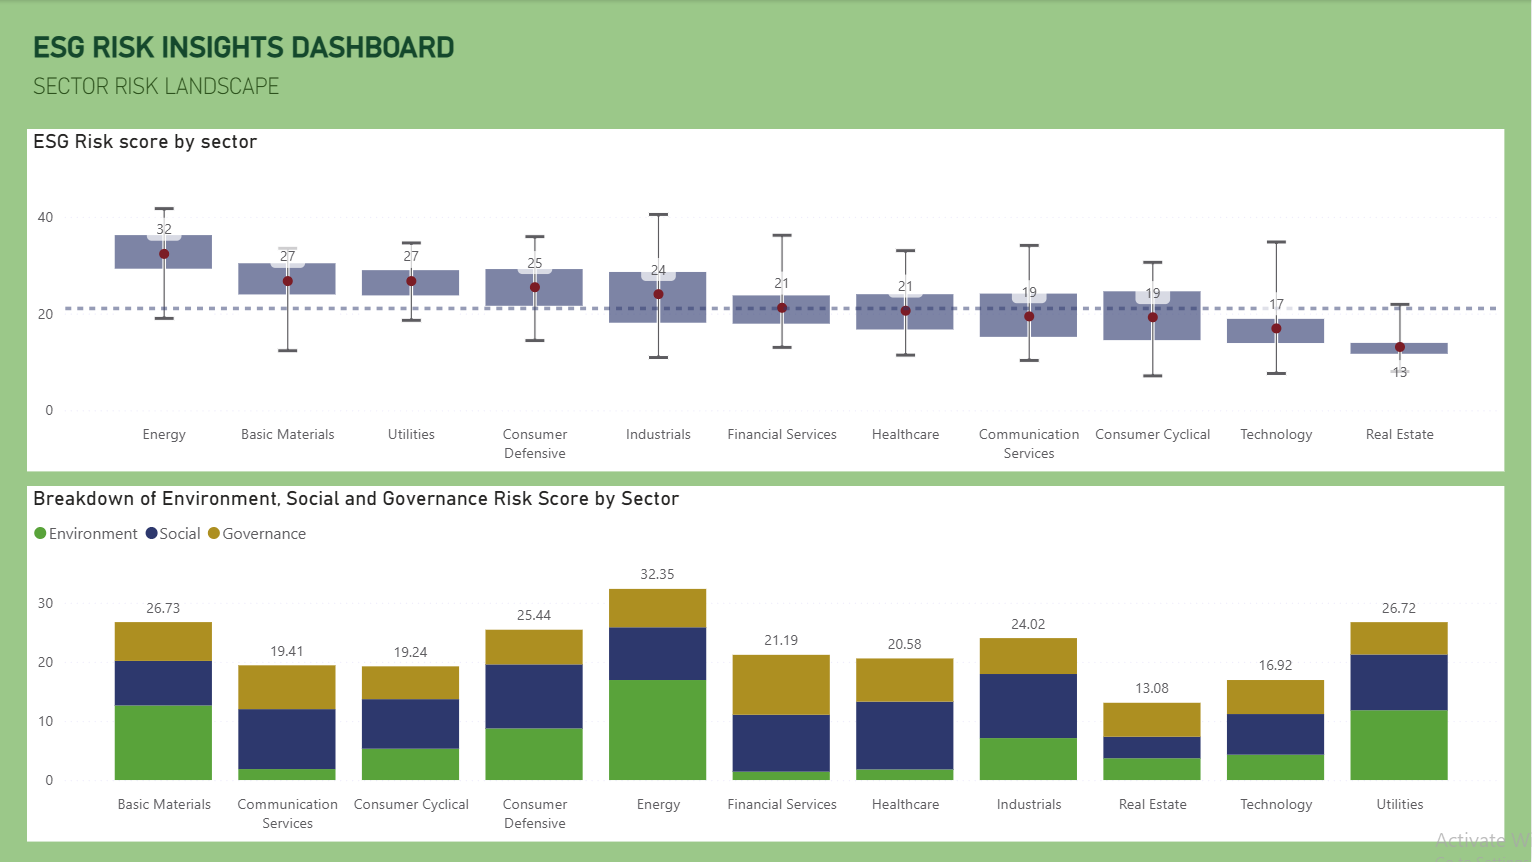

What the dashboard file says about the page in this screenshot:
{"tool":"powerbi","page":{"name":"Sector Risk Landscape","canvas":[1280,720],"ordinal":2},"visuals":[{"type":"lineStackedColumnComboChart","title":"ESG Risk score by sector","fields":{"Category":["SP 500 ESG Risk Ratings.Sector"],"Y2":["Avg(SP 500 ESG Risk Ratings.Total ESG Risk score)2"],"Y":["SP 500 ESG Risk Ratings.Q1 ESG","SP 500 ESG Risk Ratings.IQR ESG"]},"box":[23.3,108,1234.4,285.9],"z":0},{"type":"columnChart","title":"Breakdown of Environment, Social and Governance Risk Score by Sector","fields":{"Y":["Avg(SP 500 ESG Risk Ratings.Environment Risk Score)","Avg(SP 500 ESG Risk Ratings.Social Risk Score)","Avg(SP 500 ESG Risk Ratings.Governance Risk Score)"],"Category":["SP 500 ESG Risk Ratings.Sector"]},"box":[23.3,406.1,1234.4,296.9],"z":1000},{"type":"textbox","box":[23.3,20.9,1234.4,41.7],"z":2000,"group":"g1"},{"type":"textbox","box":[23.3,54.8,301.8,43.4],"z":3000,"group":"g1"},{"type":"group","id":"g1","title":"Group 1","box":[23.3,20.9,1234.4,77.3],"z":3001}]}

Visuals, with their boxes in screenshot pixels (x1, y1, x2, y2), scaled from the page's 1280x720 canvas onto the 1532x862 screenshot:
"ESG Risk score by sector" lineStackedColumnComboChart: [28, 129, 1505, 472]
"Breakdown of Environment, Social and Governance Risk Score by Sector" columnChart: [28, 486, 1505, 842]
textbox: [28, 25, 1505, 75]
textbox: [28, 66, 389, 118]
"Group 1" group: [28, 25, 1505, 118]
